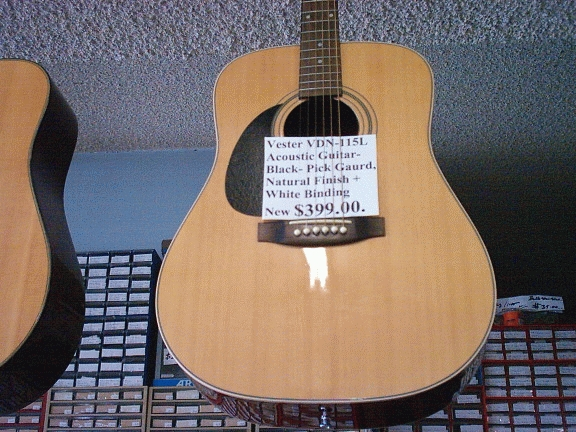guitar: (155, 1, 499, 424)
